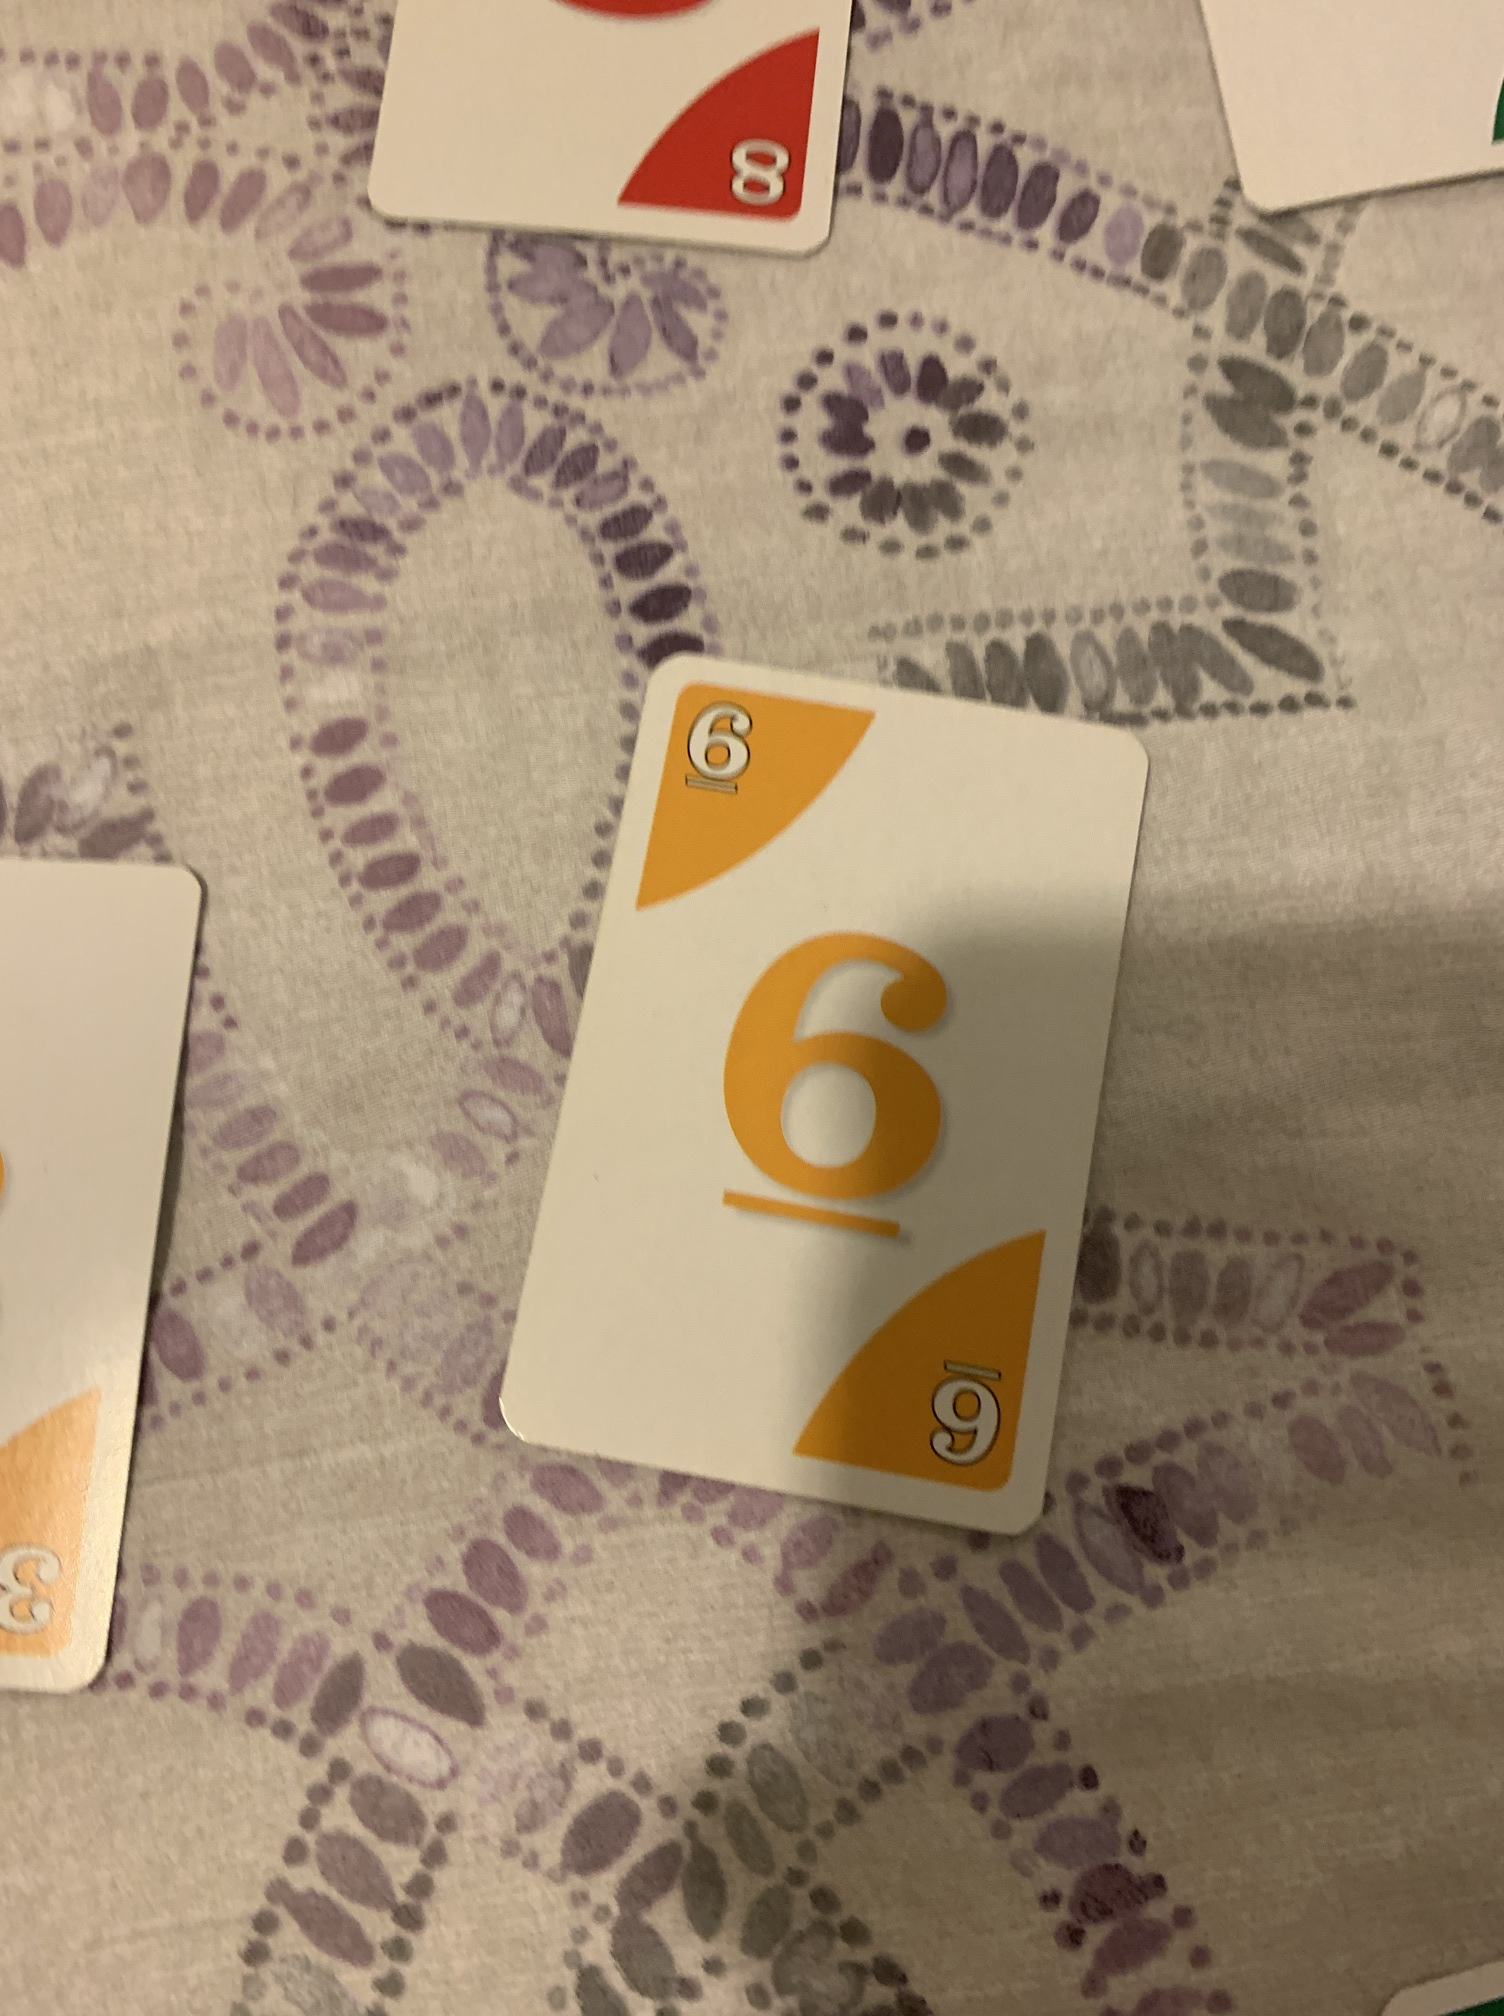six: (483, 645, 1156, 1558)
